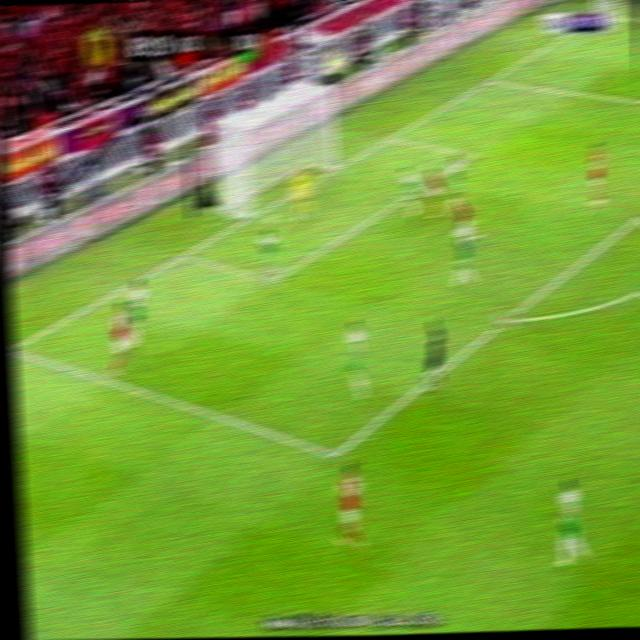bigarea_bottom_inner: (318, 437, 347, 467)
bigarea_bottom_outter: (10, 334, 22, 359)
bigarea_top_outter: (476, 69, 499, 88)
bottom_arc_area_intersection: (493, 304, 521, 332)
corner: (558, 27, 580, 39)
smallarea_bottom_inner: (257, 265, 283, 290)
smallarea_bottom_outter: (168, 240, 193, 265)
smallarea_top_inner: (458, 143, 481, 165)
smallarea_top_outter: (376, 126, 399, 147)
